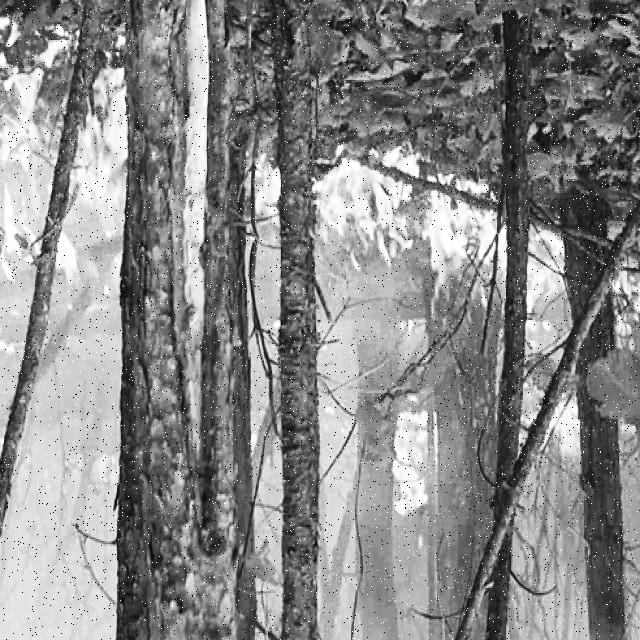api: (317, 158, 493, 286), (1, 34, 58, 258), (81, 54, 129, 216), (395, 408, 437, 519), (525, 225, 565, 301), (545, 404, 587, 473), (44, 232, 79, 307)
